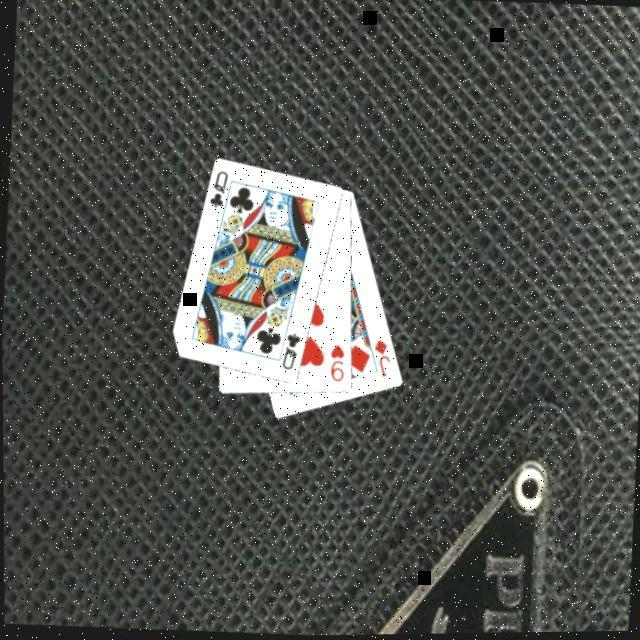9H: (326, 342, 348, 386)
JD: (370, 336, 394, 381)
QC: (279, 329, 304, 374), (207, 168, 232, 212)
